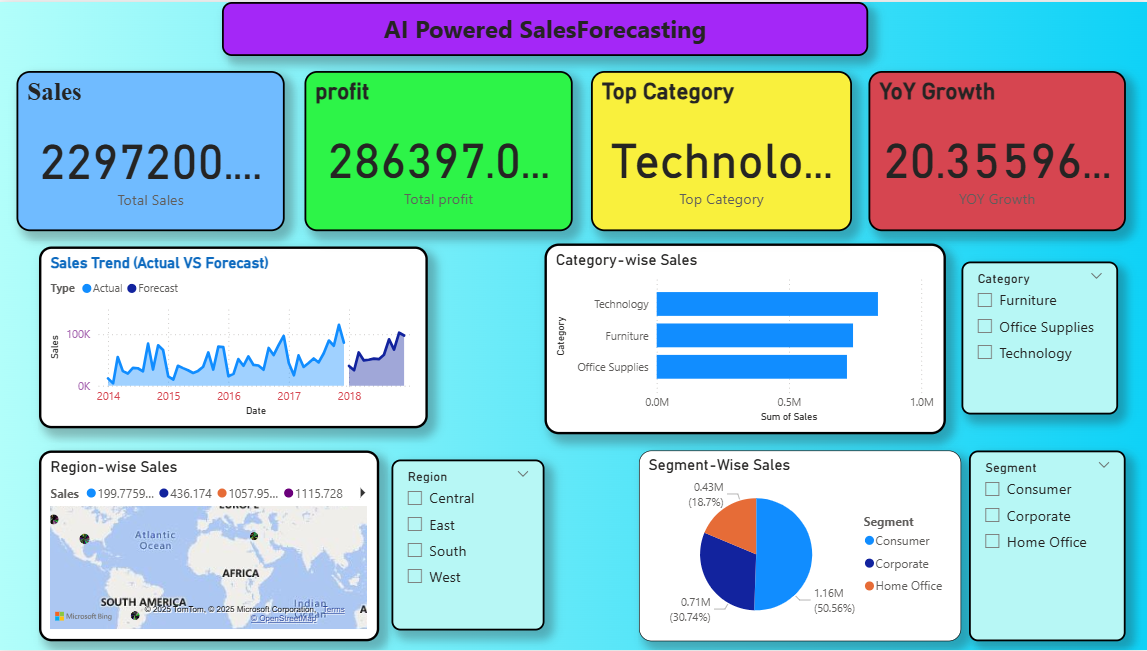

This screenshot's page, from the dashboard's own definition file:
{"tool":"powerbi","page":{"name":"Page 1","canvas":[1280,720],"ordinal":0},"visuals":[{"type":"lineChart","title":"Sales Trend (Actual VS Forecast)","fields":{"Category":["actual_vs_ensemble.ds.Variation.Date Hierarchy.Year","actual_vs_ensemble.ds.Variation.Date Hierarchy.Quarter","actual_vs_ensemble.ds.Variation.Date Hierarchy.Month","actual_vs_ensemble.ds.Variation.Date Hierarchy.Day"],"Y":["Sum(actual_vs_ensemble.y)"],"Series":["actual_vs_ensemble.Type"]},"box":[46,272,432,202],"z":0},{"type":"clusteredBarChart","title":"Category-wise Sales","fields":{"Category":["category_sales.Category"],"Y":["Sum(category_sales.Sales)"]},"box":[608,268,446,212],"z":1000},{"type":"map","title":"Region-wise Sales","fields":{"Size":["Sum(region_sales.Sales)"],"Series":["region_sales.Sales"],"Category":["region_sales.Region"]},"box":[46,498,378,212],"z":2000},{"type":"pieChart","title":"Segment-Wise Sales","fields":{"Y":["Sum(segment_sales.Sales)"],"Category":["segment_sales.Segment"]},"box":[714,498,358,212],"z":3000},{"type":"card","title":"Sales","fields":{"Values":["Min(insight_cards.Column2)"]},"box":[22,76,298,178],"z":4000},{"type":"card","title":"profit","fields":{"Values":["Min(insight_cards.Column2)"]},"box":[342,76,298,178],"z":5000},{"type":"card","title":"Top Category","fields":{"Values":["Min(insight_cards.Column2)"]},"box":[660,76,290,178],"z":6000},{"type":"card","title":"YoY Growth","fields":{"Values":["Min(insight_cards.Column2)"]},"box":[968,76,286,178],"z":7000},{"type":"slicer","fields":{"Values":["category_sales.Category"]},"box":[1072,288,174,170],"z":8000},{"type":"slicer","fields":{"Values":["segment_sales.Segment"]},"box":[1080,498,174,212],"z":9000},{"type":"slicer","fields":{"Values":["region_sales.Region"]},"box":[438,508,170,190],"z":10000},{"type":"textbox","box":[250,0,718,60],"z":11000}]}

Visuals, with their boxes in screenshot pixels (x1, y1, x2, y2), scaled from the page's 1280x720 canvas onto the 1147x651 screenshot:
"Sales Trend (Actual VS Forecast)" lineChart: [x1=41, y1=246, x2=428, y2=429]
"Category-wise Sales" clusteredBarChart: [x1=545, y1=242, x2=944, y2=434]
"Region-wise Sales" map: [x1=41, y1=450, x2=380, y2=642]
"Segment-Wise Sales" pieChart: [x1=640, y1=450, x2=961, y2=642]
"Sales" card: [x1=20, y1=69, x2=287, y2=230]
"profit" card: [x1=306, y1=69, x2=574, y2=230]
"Top Category" card: [x1=591, y1=69, x2=851, y2=230]
"YoY Growth" card: [x1=867, y1=69, x2=1124, y2=230]
slicer - category_sales.Category: [x1=961, y1=260, x2=1117, y2=414]
slicer - segment_sales.Segment: [x1=968, y1=450, x2=1124, y2=642]
slicer - region_sales.Region: [x1=392, y1=459, x2=545, y2=631]
textbox: [x1=224, y1=0, x2=867, y2=54]
